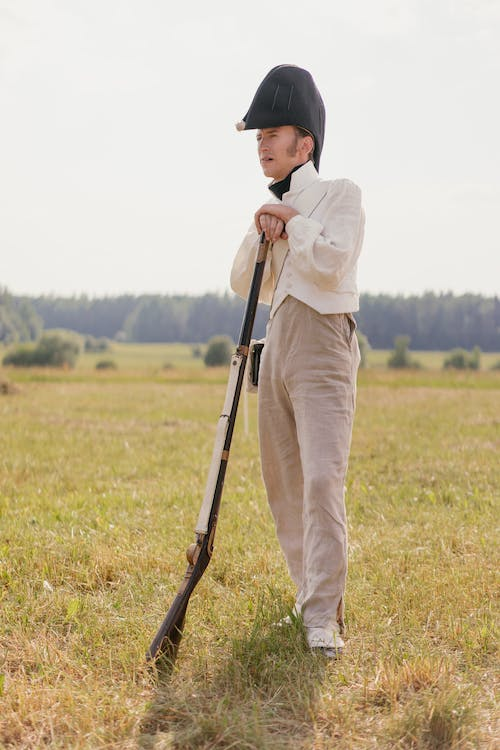gun: (144, 228, 270, 673)
